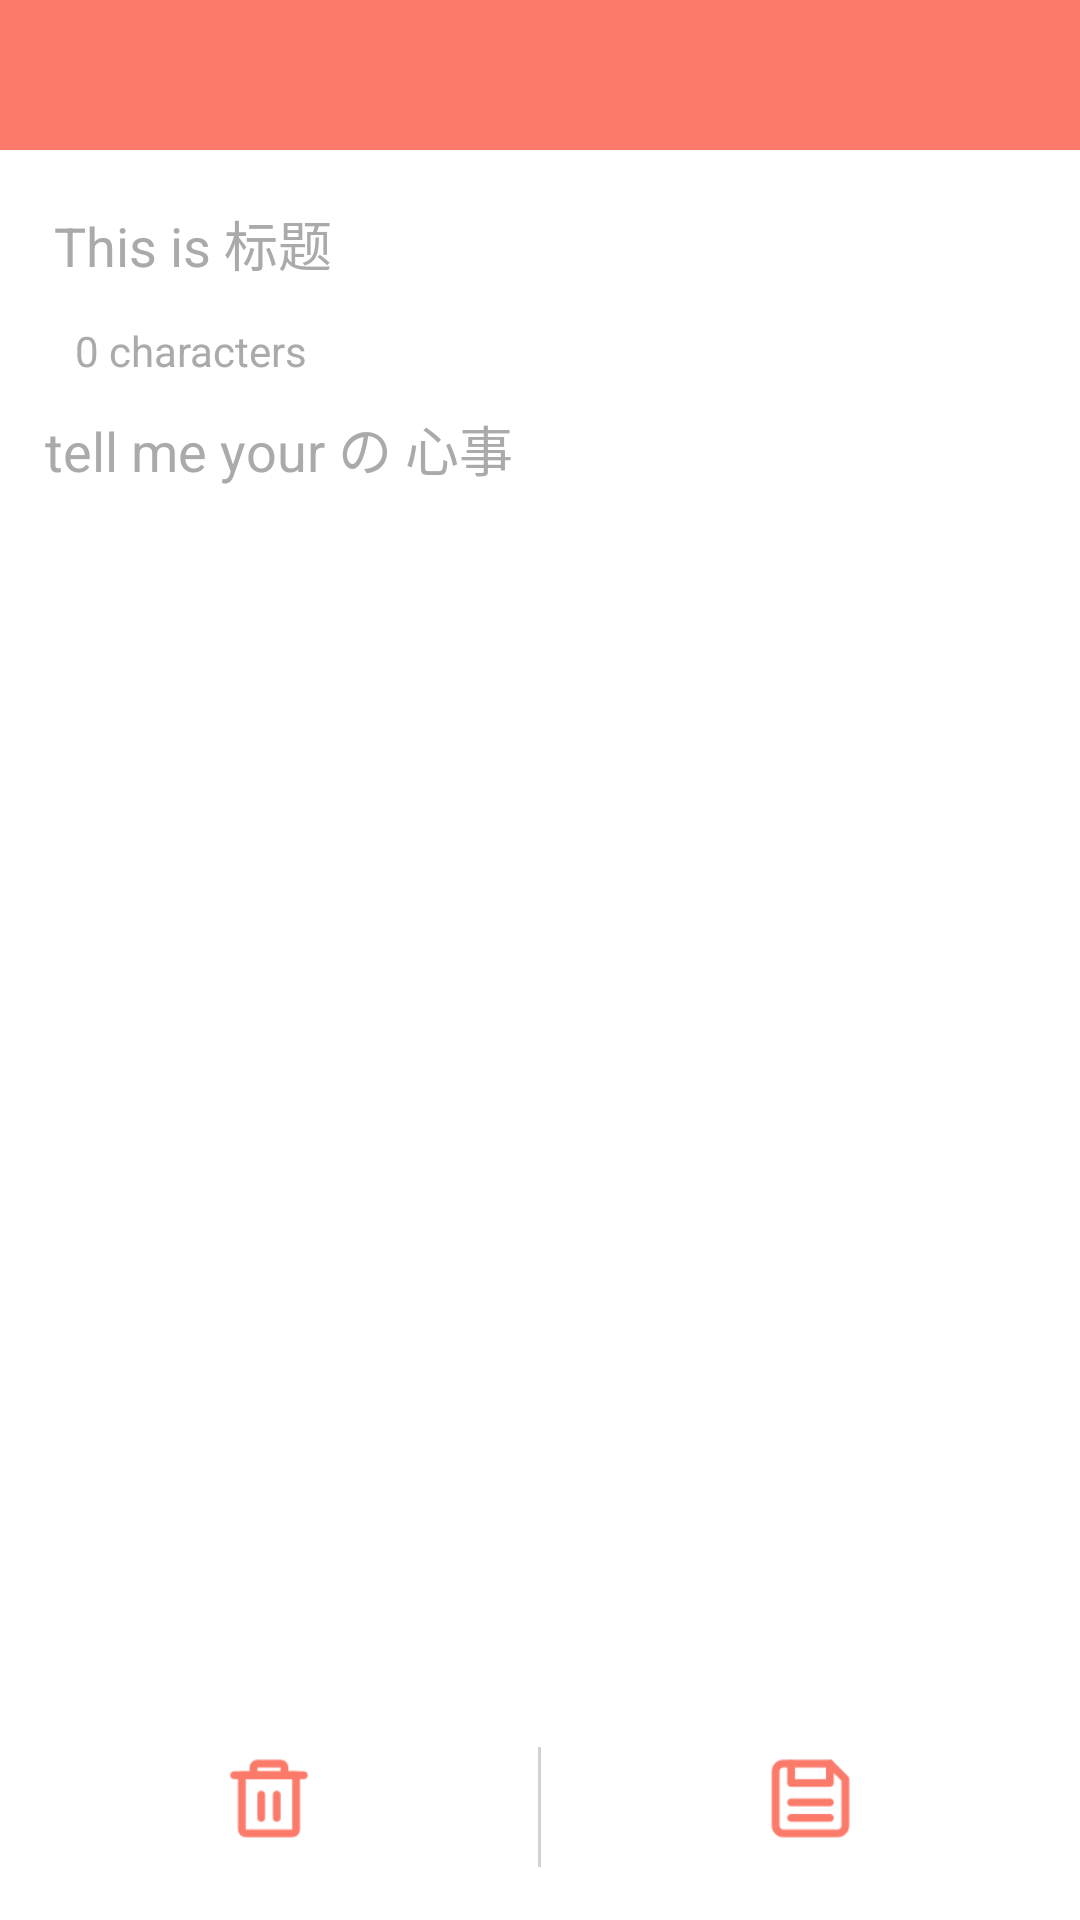

Named icons in this screenshot (1080×1920) and their bounding boxes, BBox(x1, y1, x2, y2):
isvg del: BBox(230, 1759, 308, 1838)
isvg save: BBox(771, 1759, 850, 1838)
